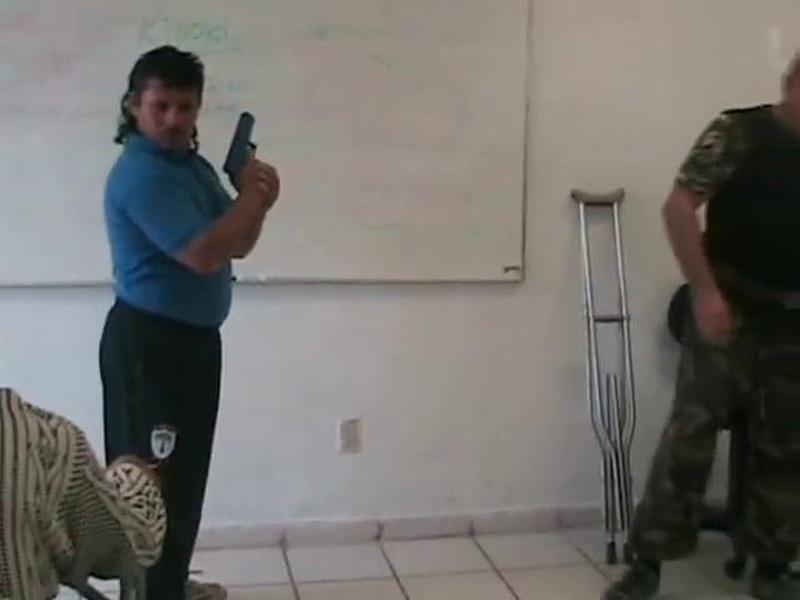Pistola: (225, 104, 262, 192)
